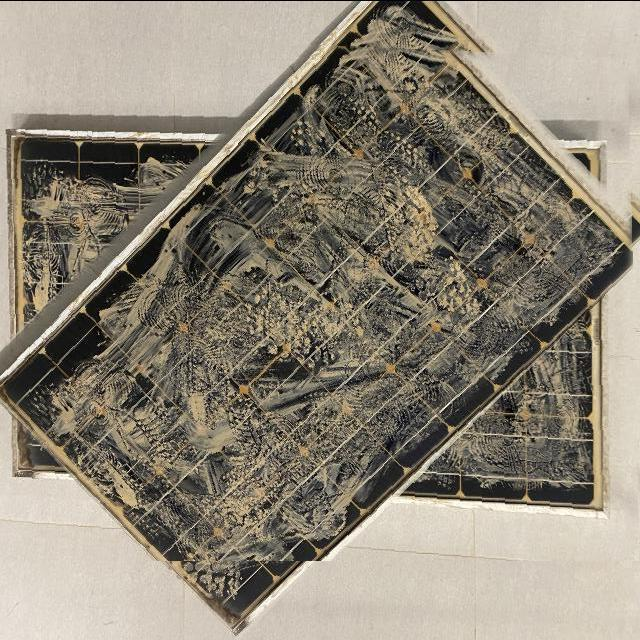Anomaly Solar Panel: (3, 0, 640, 635)
Surface Contaminant: (15, 4, 627, 622), (402, 304, 596, 494), (16, 156, 202, 333)
